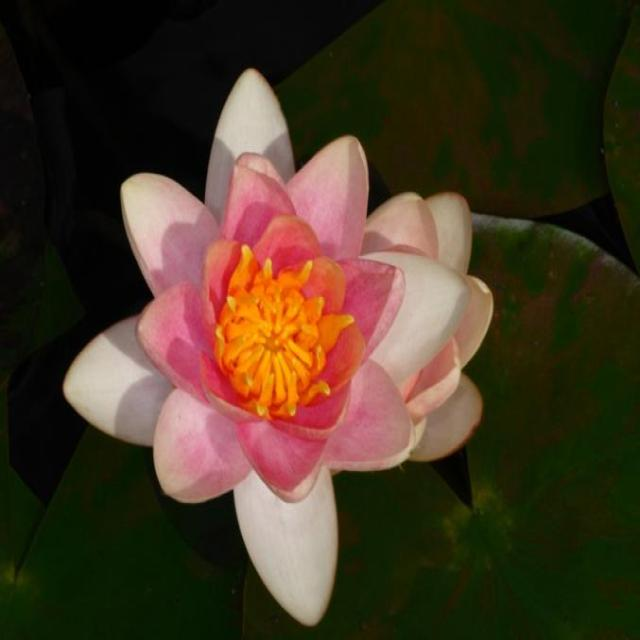rose: (38, 60, 626, 615)
